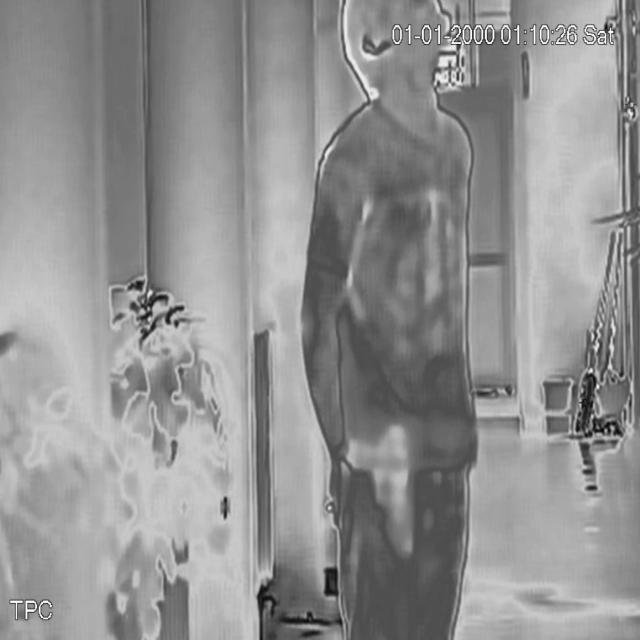Weapon: (343, 410, 441, 574)
